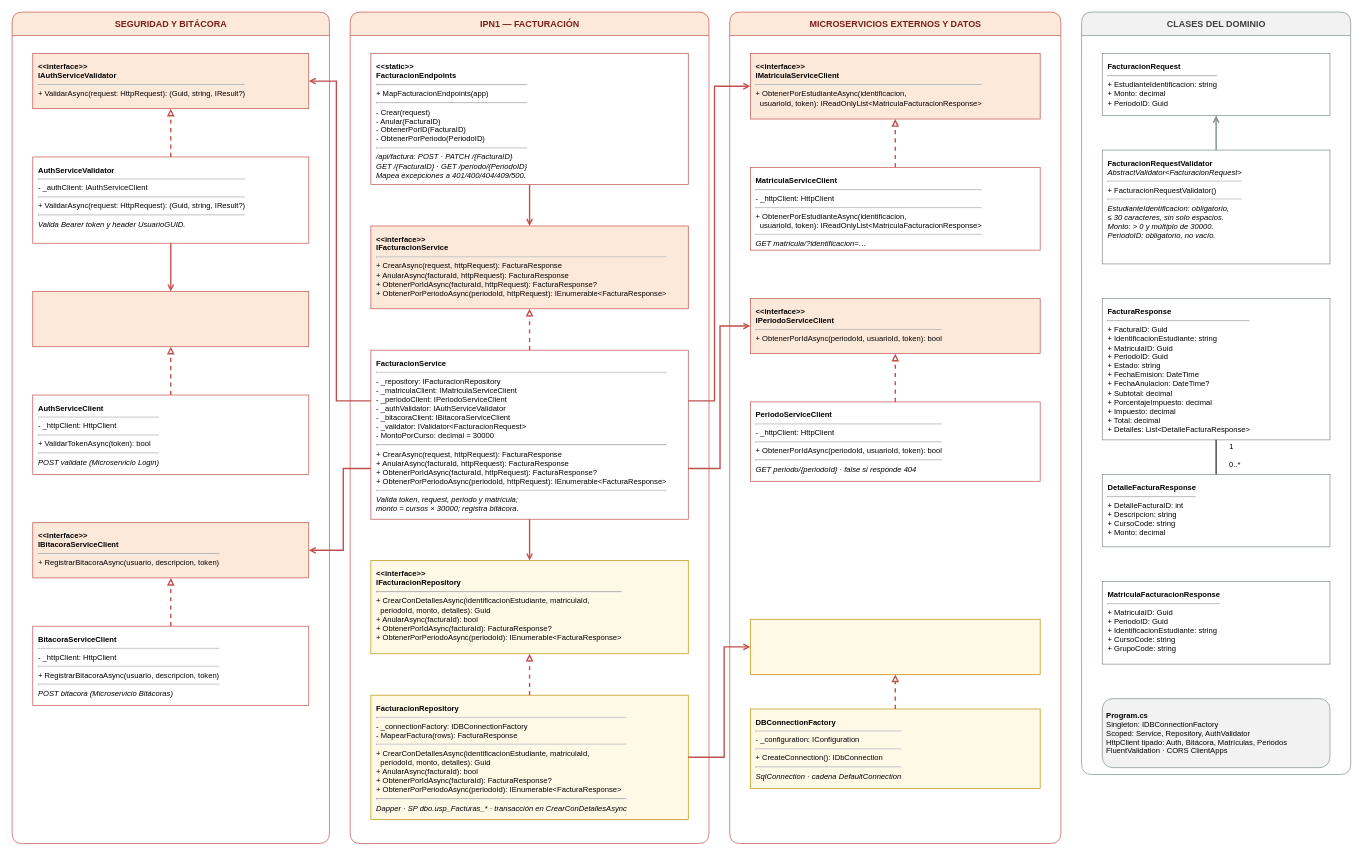
Image size: 1363x856. Some labels were removed from this diagram. The shapes that lost their labels are listed below. From the top down, each one's centre as x and y in pixels, then its label:
the point at 170,319: <<interface>> IAuthServiceClient + ValidarTokenAsync(token): bool
the point at 895,646: <<interface>> IDBConnectionFactory + CreateConnection(): IDbConnection
